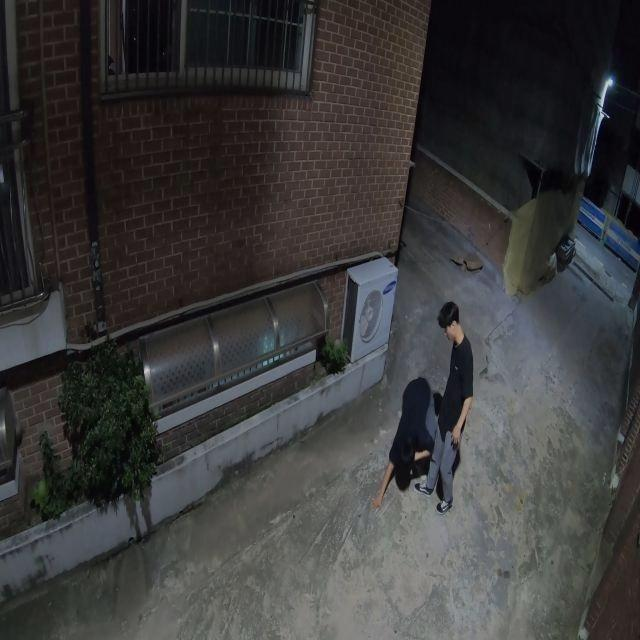fight: (381, 298, 476, 512)
